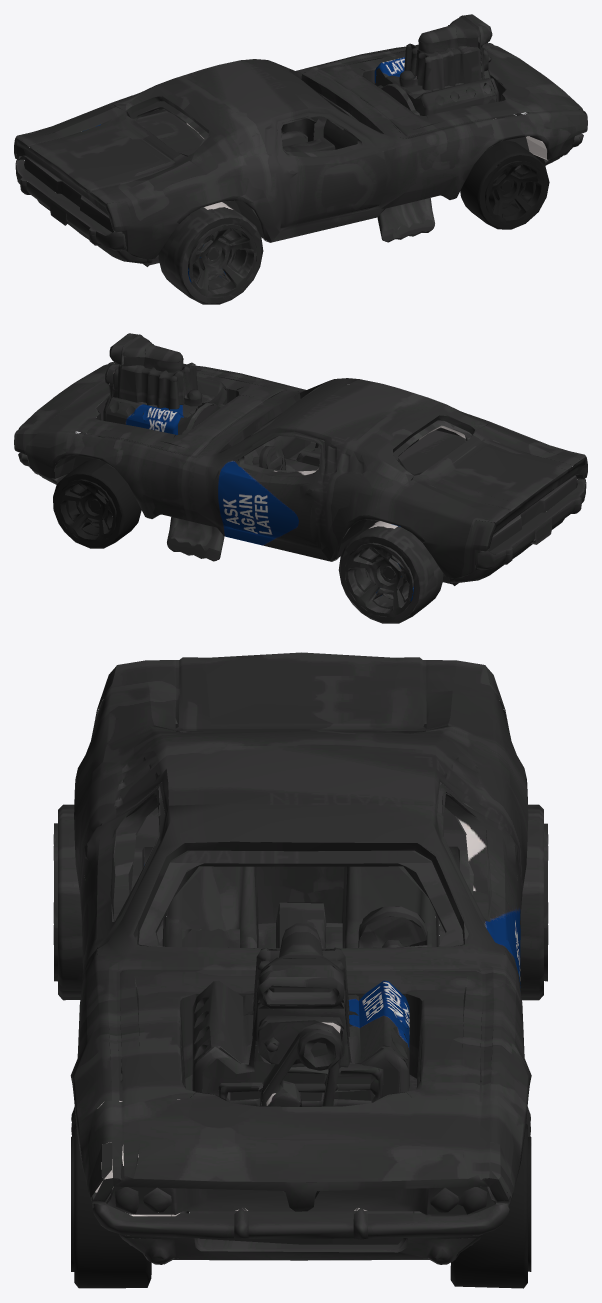
The model's file is car_hotwh_LOD01.fbx.
The picture shows the model from 3 angles, top to bottom: view 1: azimuth 30°, elevation 25°; view 2: azimuth 150°, elevation 25°; view 3: azimuth 270°, elevation 25°; orthographic projection. The views are drawn at different scales.
Visible parts, largest first — view 1: car005; view 2: car005; view 3: car005.
Boxes of the visible parts, x1,y1,x2,y2 form: car005: (14, 14, 587, 304); car005: (14, 333, 587, 623); car005: (53, 652, 548, 1288).
Size of the model in its own units: 462 by 148 by 202.
5 materials, 4 textured.
